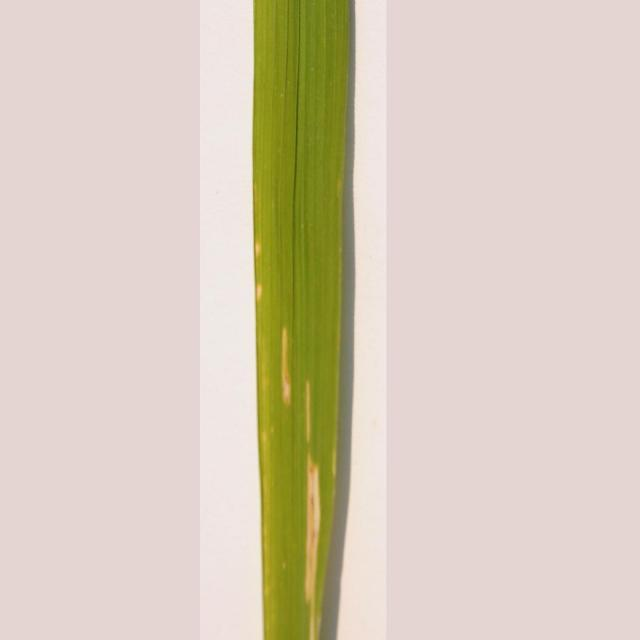leaf blight: (247, 215, 349, 640)
